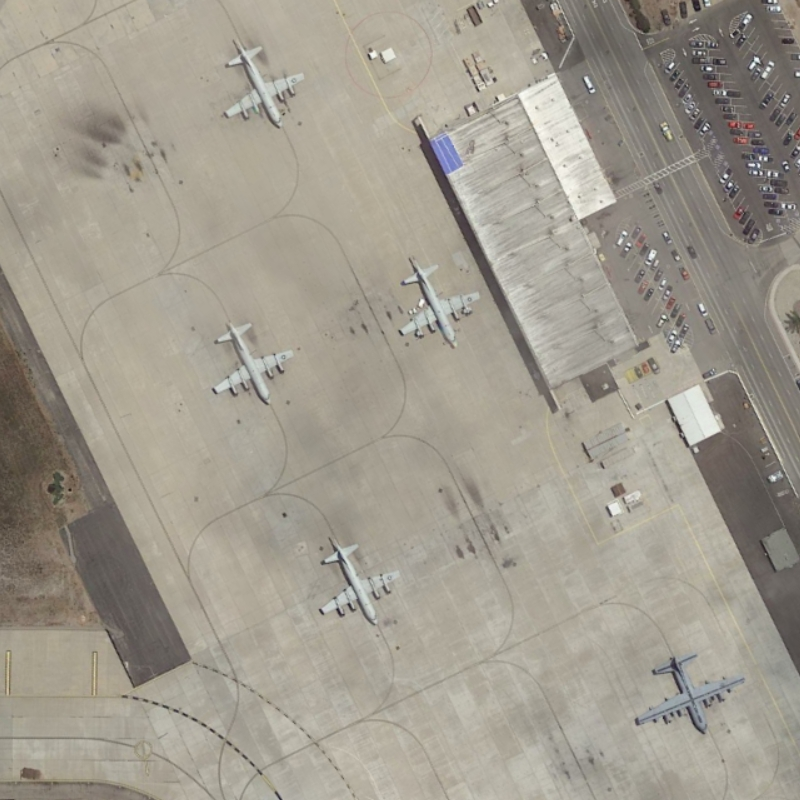A2: (628, 645, 753, 744)
A9: (221, 31, 310, 137), (207, 312, 298, 411), (315, 529, 405, 629), (396, 253, 487, 351)
